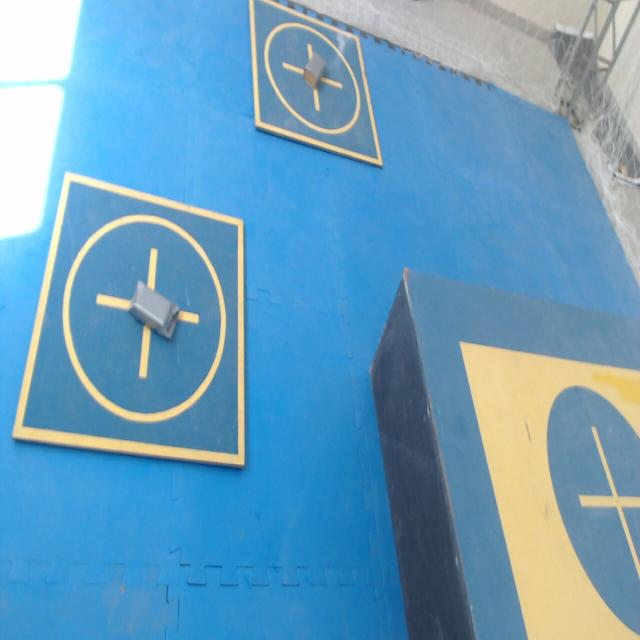direita: (304, 49, 324, 88)
esquerda: (128, 280, 179, 339)
